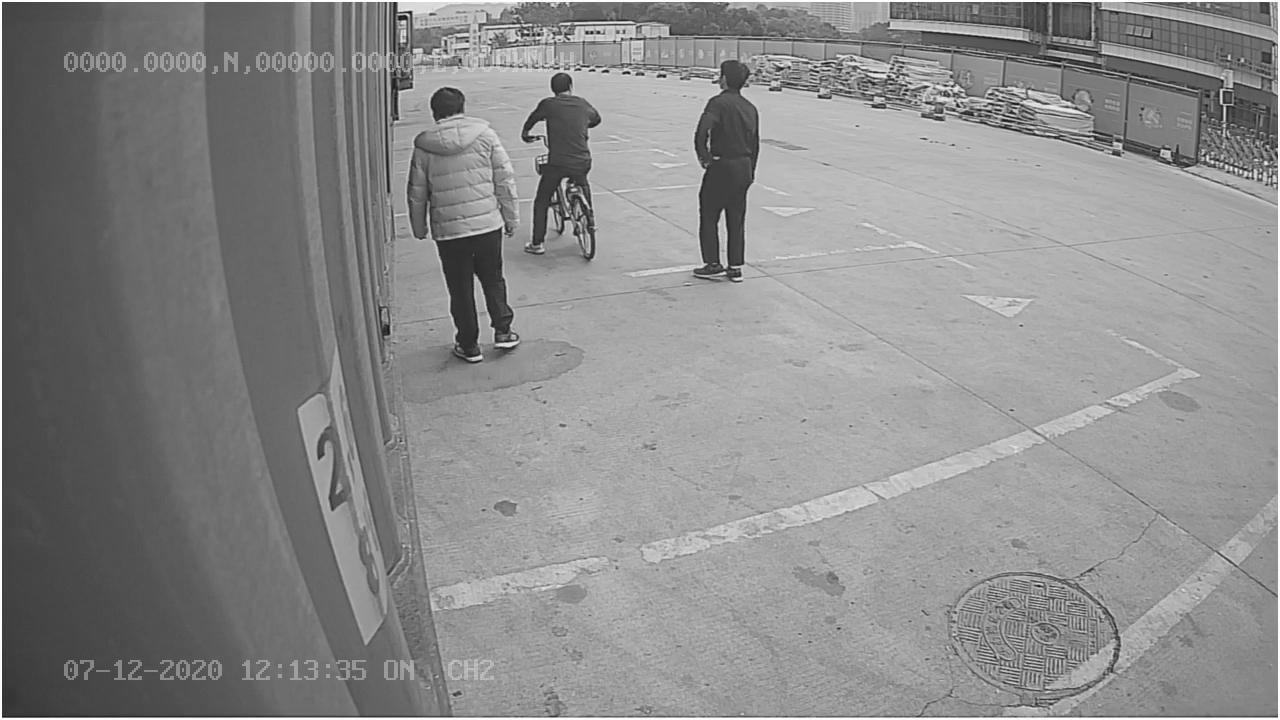person: (406, 79, 525, 356), (686, 52, 763, 286)
